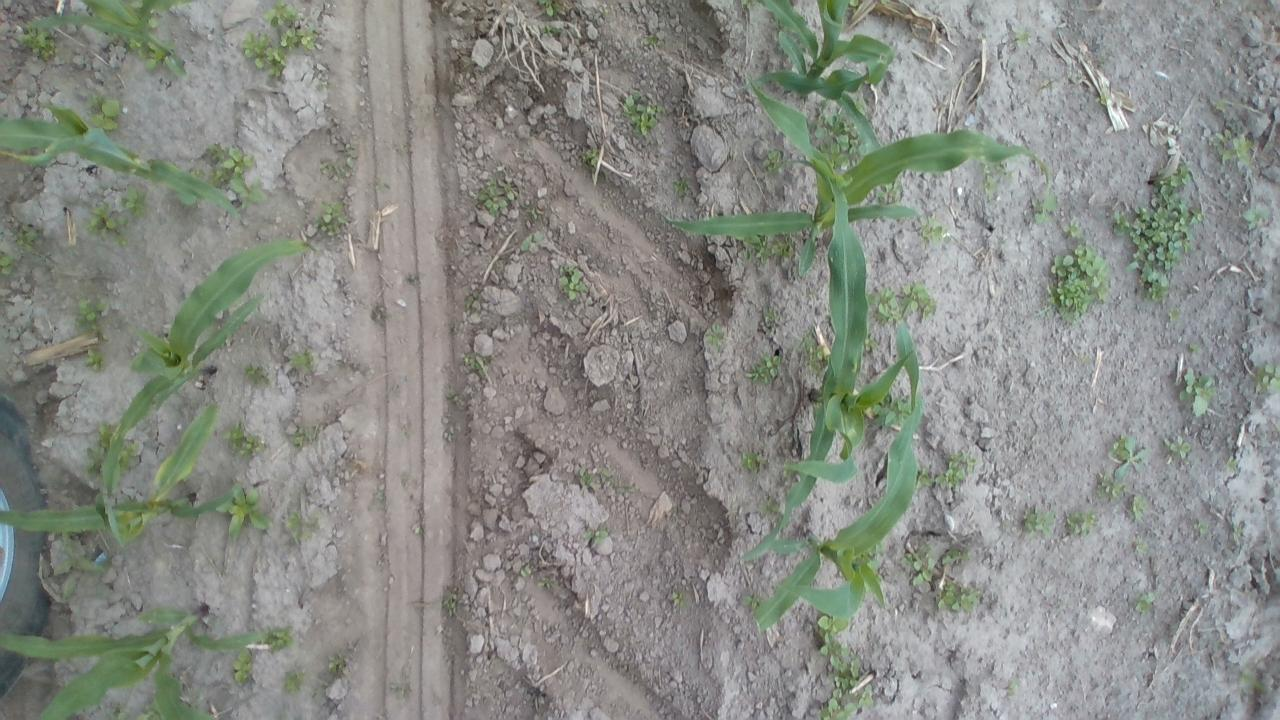Maize: (668, 72, 1052, 276), (741, 158, 915, 564), (102, 241, 315, 538), (752, 318, 918, 624), (0, 396, 241, 535), (0, 603, 272, 720), (0, 102, 241, 222), (758, 0, 895, 152), (26, 1, 188, 77)
Weeds: (1116, 168, 1200, 300), (899, 541, 984, 616), (814, 614, 874, 720), (236, 4, 316, 78), (1048, 242, 1108, 324), (56, 535, 107, 597), (917, 448, 981, 496), (216, 484, 272, 536), (810, 102, 860, 156), (620, 92, 666, 144), (1106, 430, 1152, 481), (1181, 362, 1220, 420), (206, 141, 257, 184), (86, 201, 129, 247), (474, 173, 514, 222), (1206, 129, 1256, 168), (224, 422, 268, 465), (900, 280, 940, 324), (794, 326, 826, 380), (555, 260, 590, 306), (71, 296, 115, 332), (868, 283, 903, 327), (1022, 502, 1060, 540), (315, 202, 354, 238), (16, 29, 56, 62), (1059, 506, 1103, 536), (741, 349, 780, 382), (1022, 190, 1064, 220), (85, 94, 122, 128), (741, 236, 794, 258), (572, 461, 604, 496), (1240, 199, 1272, 233), (760, 290, 784, 334), (230, 180, 270, 206), (704, 320, 734, 354), (1003, 20, 1033, 53), (241, 363, 273, 393), (232, 650, 258, 686), (278, 510, 309, 540), (1255, 358, 1280, 395), (912, 219, 949, 244), (282, 349, 320, 373), (118, 438, 142, 474), (1094, 476, 1130, 500), (1166, 436, 1198, 462), (14, 220, 42, 248), (1124, 489, 1152, 517), (984, 162, 1006, 194), (740, 445, 764, 474), (264, 629, 294, 652), (531, 0, 564, 20), (462, 352, 493, 373), (279, 666, 304, 692), (761, 150, 788, 174), (445, 585, 463, 620), (1246, 668, 1270, 694), (142, 44, 166, 70), (83, 346, 107, 372), (121, 193, 150, 214), (582, 529, 612, 548), (284, 428, 308, 451), (330, 653, 352, 677), (95, 422, 115, 448), (522, 198, 549, 216), (1134, 592, 1156, 614), (518, 232, 542, 252), (1206, 98, 1232, 116), (761, 497, 782, 519), (671, 177, 691, 200), (109, 710, 154, 720), (1064, 220, 1086, 240), (0, 250, 15, 278), (1192, 520, 1212, 538), (735, 594, 760, 608), (1166, 306, 1184, 324), (580, 148, 599, 165), (1221, 457, 1241, 472), (1130, 540, 1148, 556), (666, 591, 684, 606), (640, 36, 656, 52), (444, 426, 458, 443), (864, 336, 877, 352), (538, 576, 556, 587), (520, 564, 533, 577), (1095, 90, 1107, 104), (1187, 342, 1197, 352), (850, 0, 859, 7)
